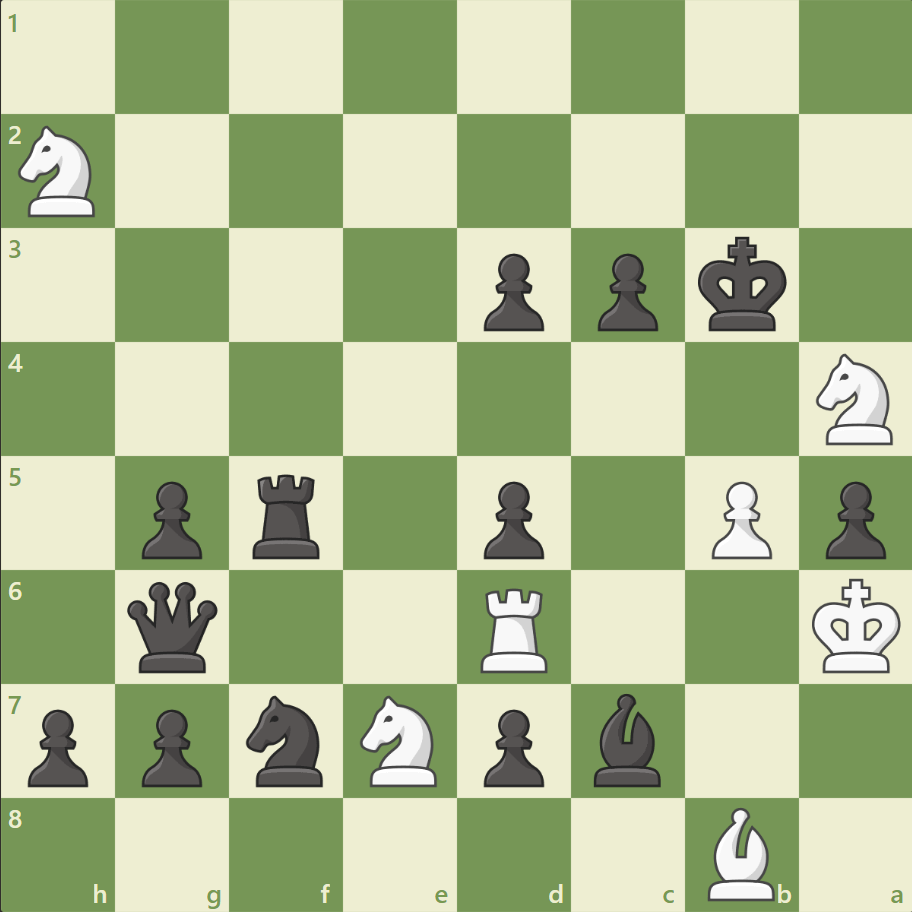B: (698, 801, 782, 904)
K: (806, 571, 906, 679)
N: (351, 688, 449, 791), (806, 348, 903, 450), (11, 121, 108, 223)
P: (701, 473, 776, 564)
R: (473, 579, 556, 676)
b: (585, 687, 669, 790)
k: (692, 231, 792, 339)
n: (238, 688, 335, 791)
p: (474, 700, 549, 791), (133, 700, 208, 791), (20, 700, 95, 791), (474, 473, 549, 564), (133, 473, 208, 564), (474, 246, 549, 337), (815, 473, 889, 564), (588, 246, 662, 337)
q: (124, 576, 223, 676)
r: (246, 466, 329, 563)
